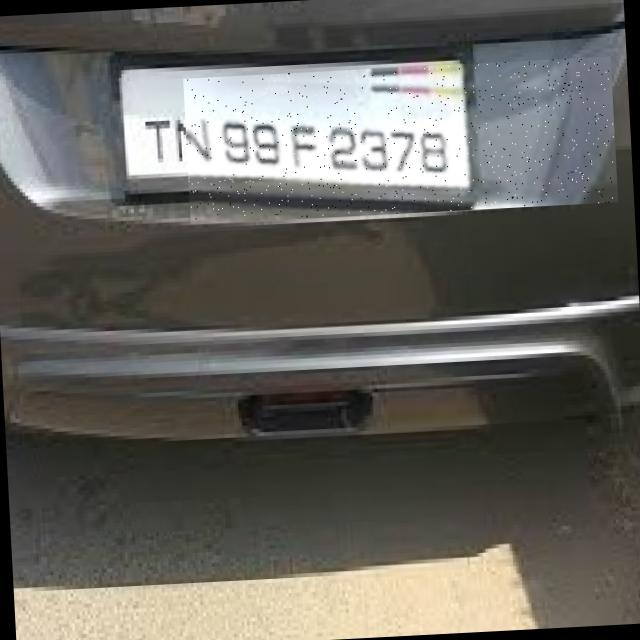Plate: (184, 58, 619, 226)
